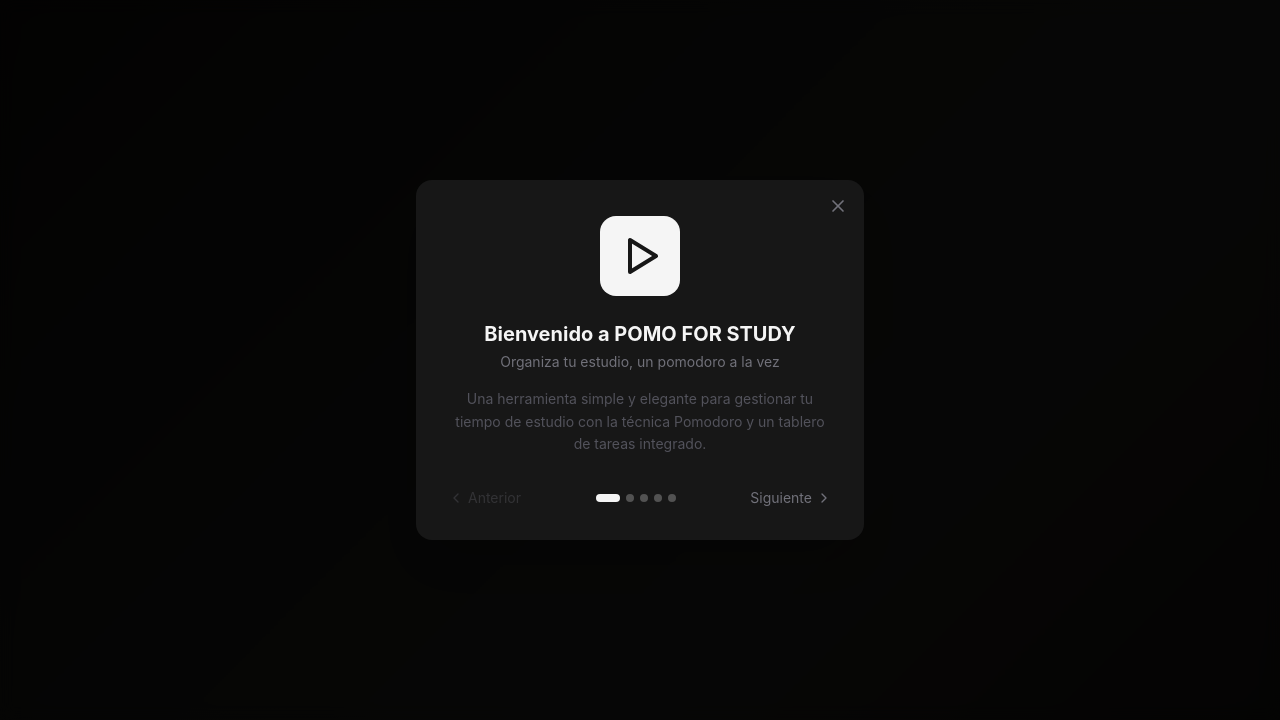
OnboardingWizard › should navigate through wizard steps
The image size is (1280, 720).
Expected: the heading "Bienvenido a POMO FOR STUDY" is shown, [484,320,796,348]
What coordinates should you click on to do the following:
click the button "Siguiente"
I would click on:
 (791, 498)
Its box is [750,488,832,508].
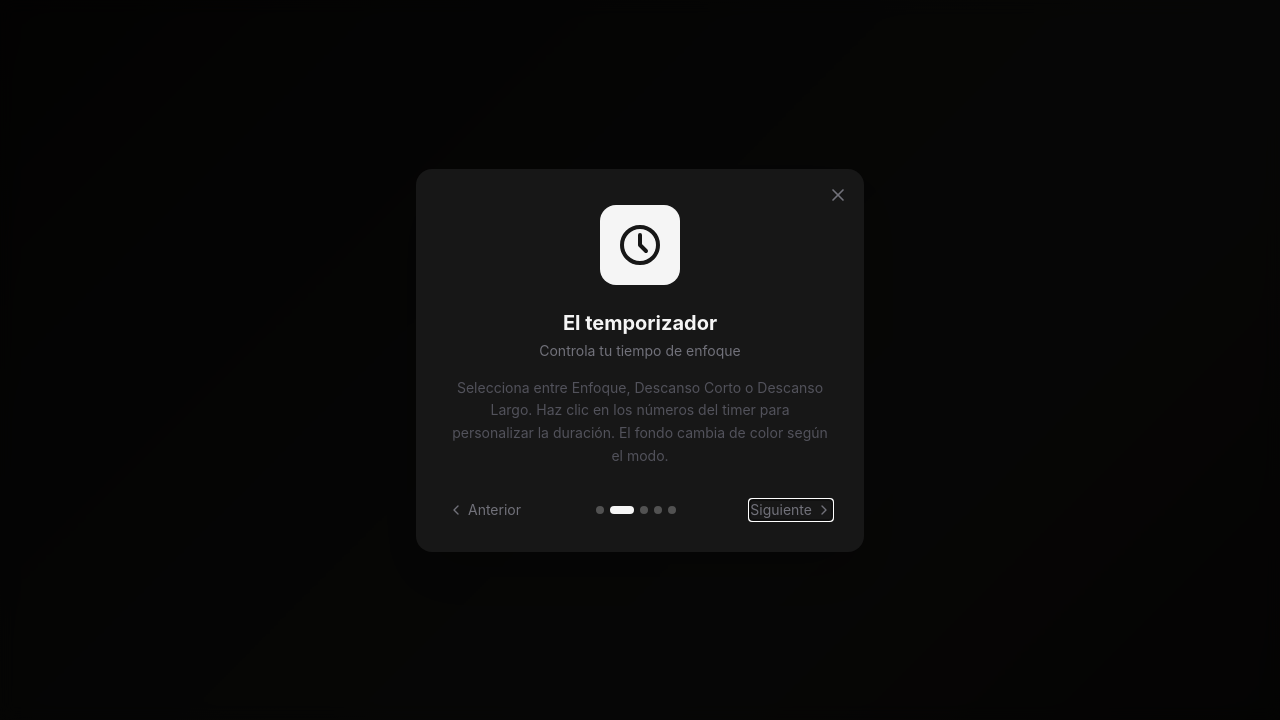
Expected: the heading "El temporizador" is shown, [563,308,717,336]
What coordinates should you click on to do the following:
click the button "Anterior"
I would click on:
 (484, 510)
Its box is [448,500,521,520].
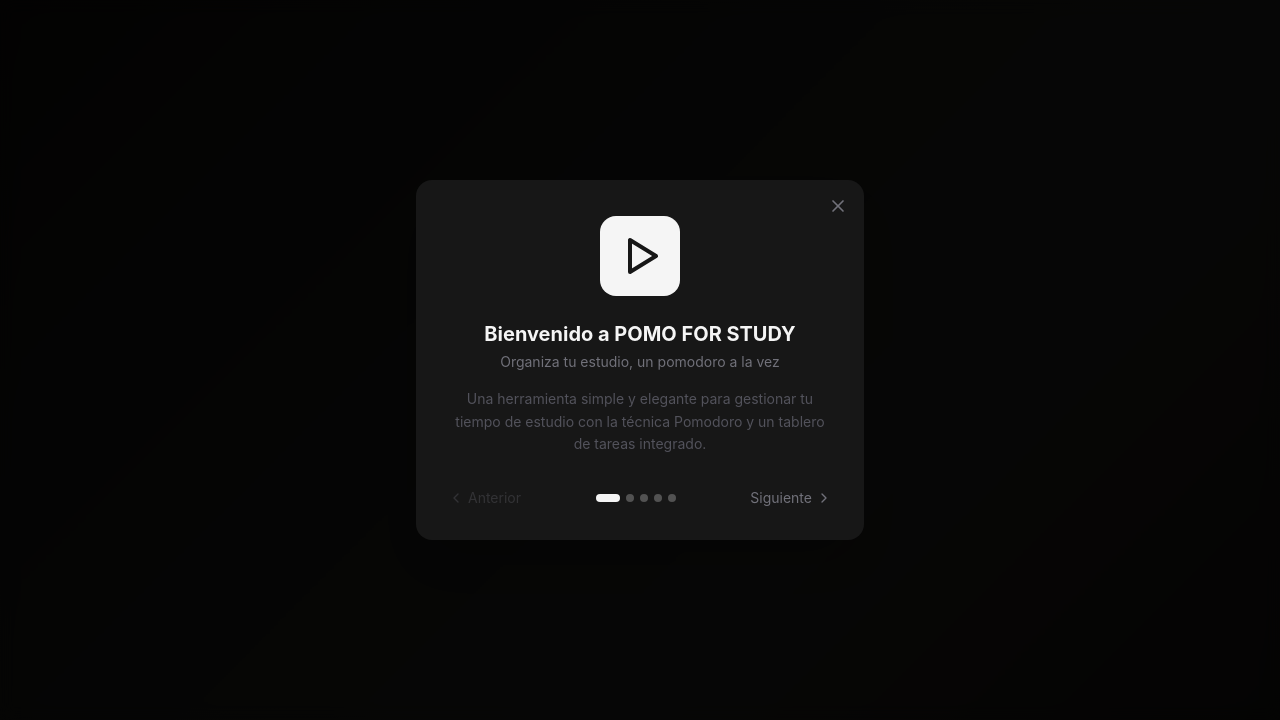
Expected: the heading "Bienvenido a POMO FOR STUDY" is shown, [484,320,796,348]
